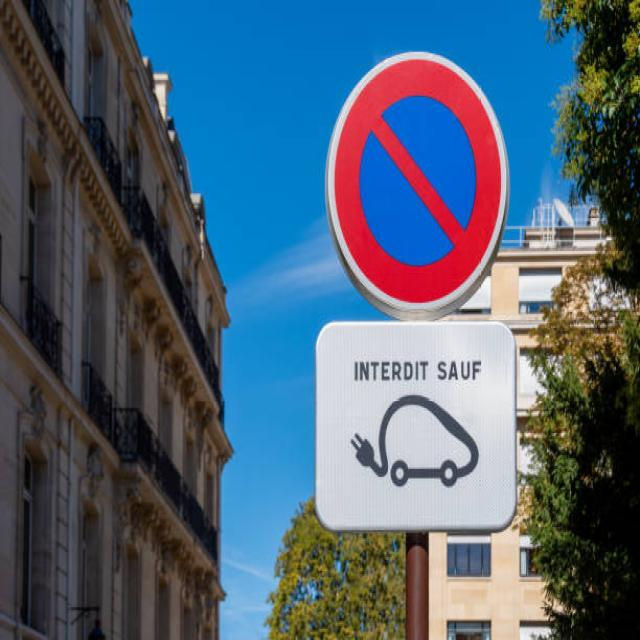forb_stopping: (324, 52, 509, 318)
